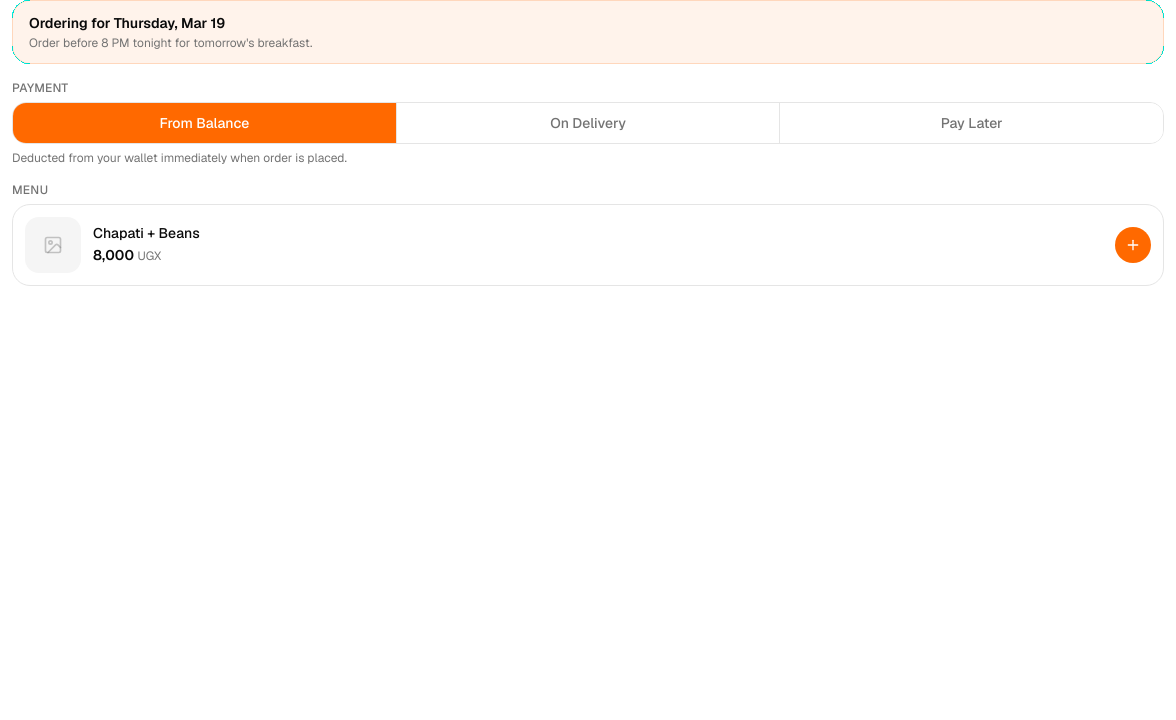
Test: OrderForm › shows insufficient balance for prepaid automatic orders
The image size is (1176, 720).
Click the button named "add-Chapati + Beans" at (1133, 245), box [1115,227,1151,263]
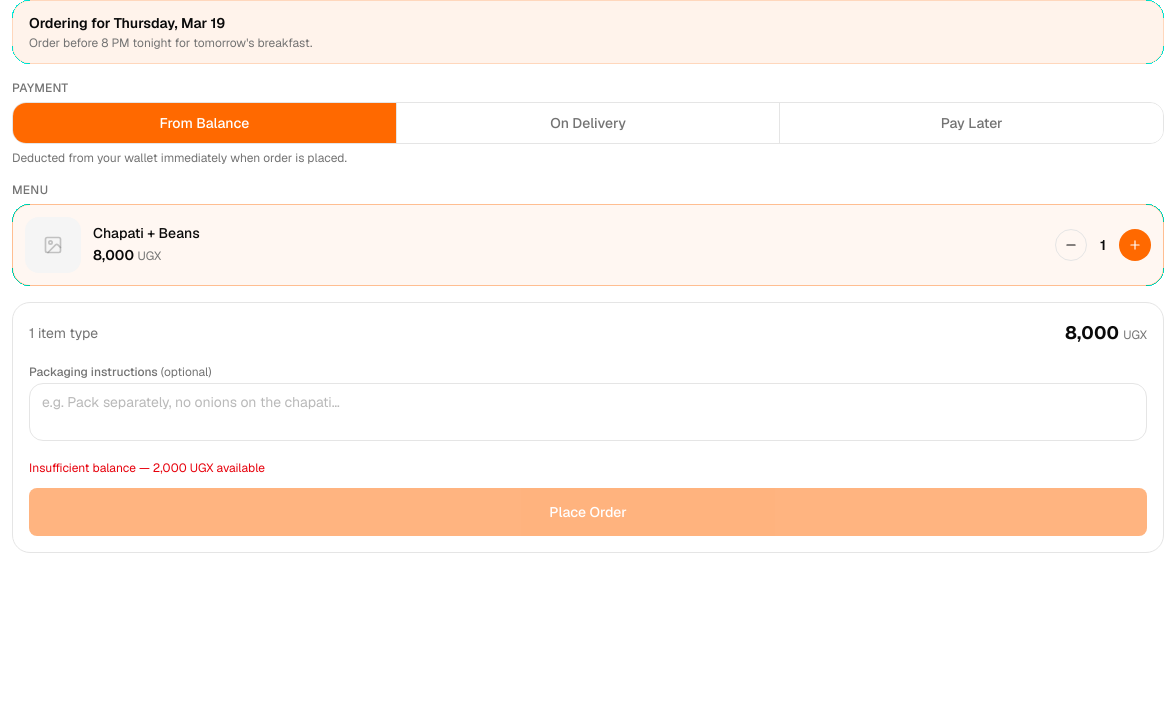
expect the text "Insufficient balance — 2,000 UGX available" is shown: met, box [29,460,265,476]
expect the button "Place Order" is disabled: met, box [29,488,1147,536]
